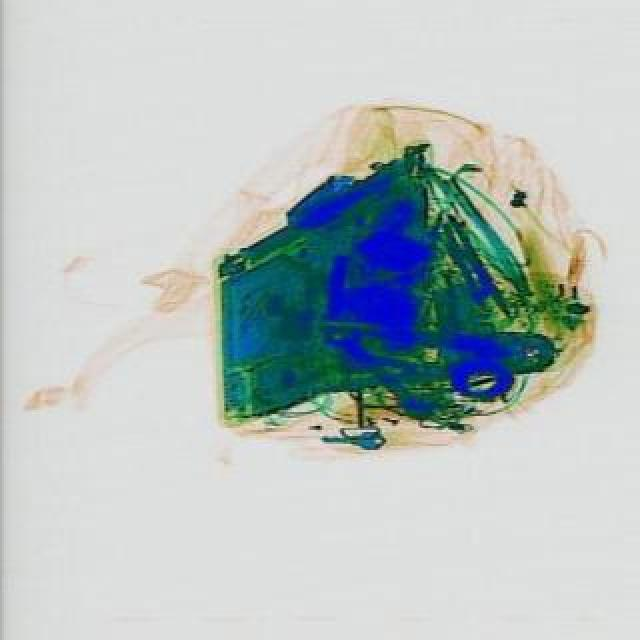scissors: (320, 314, 440, 430)
wrench: (312, 316, 554, 392)
